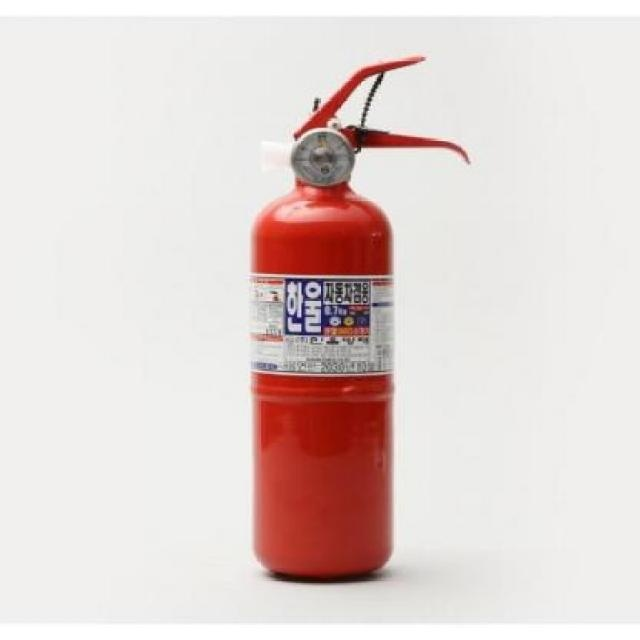fire extinguisher: (248, 55, 472, 578)
